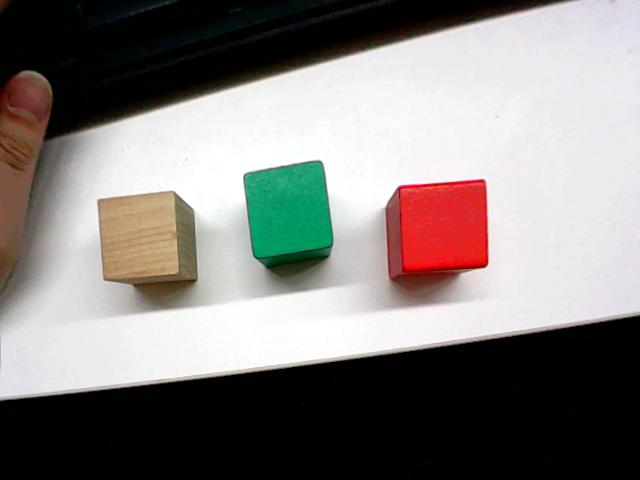green_box: (240, 156, 336, 269)
raw_box: (94, 187, 200, 287)
red_box: (382, 174, 492, 281)
